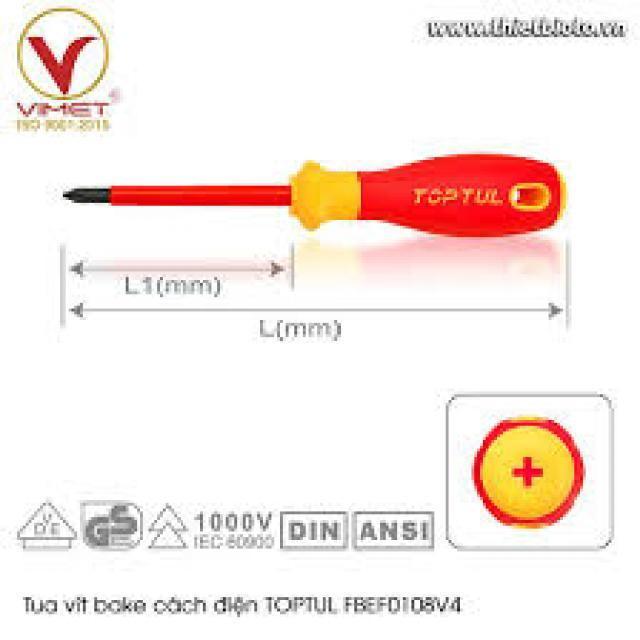screwdriver: (46, 144, 566, 244)
